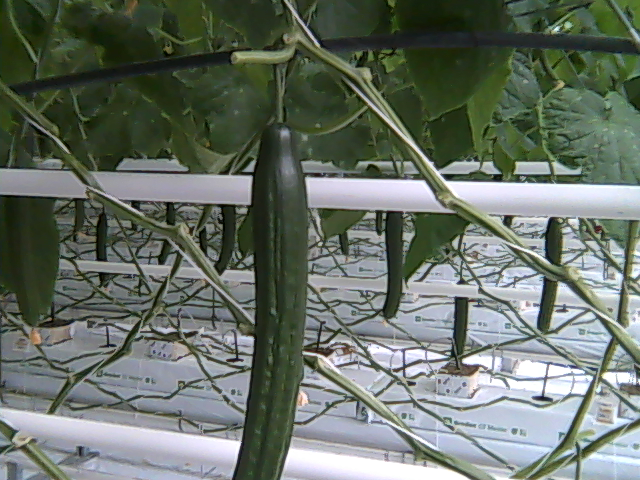concombre: (227, 110, 314, 480)
